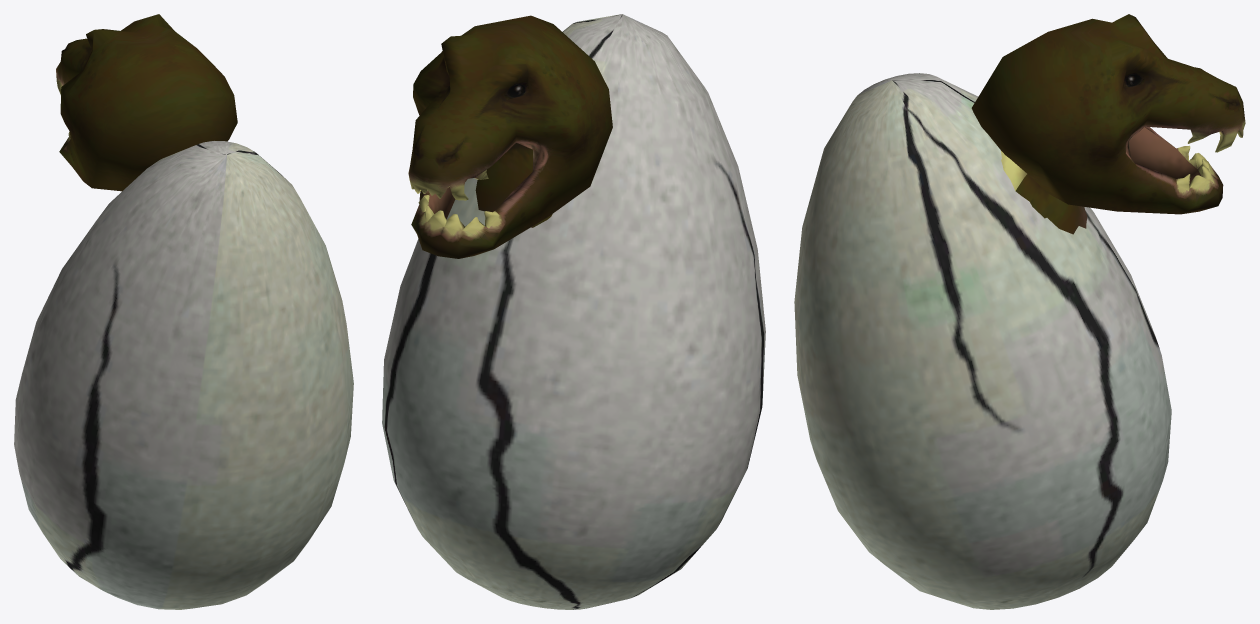
The model's file is t-rex huevo.glb.
3 views of the same model, side by side, from view 1: azimuth 30°, elevation 25°; view 2: azimuth 150°, elevation 25°; view 3: azimuth 270°, elevation 25° (orthographic). The views are drawn at different scales.
Parts seen in each view (by area): view 1: t-rex; view 2: t-rex; view 3: t-rex.
Part boxes in pixels (x1=…): t-rex: x1=14, y1=14, x2=353, y2=609; t-rex: x1=382, y1=14, x2=765, y2=609; t-rex: x1=794, y1=14, x2=1245, y2=609.
Size of the model in its own units: 4.04 by 6.96 by 5.01.
4 materials, 4 textured.
